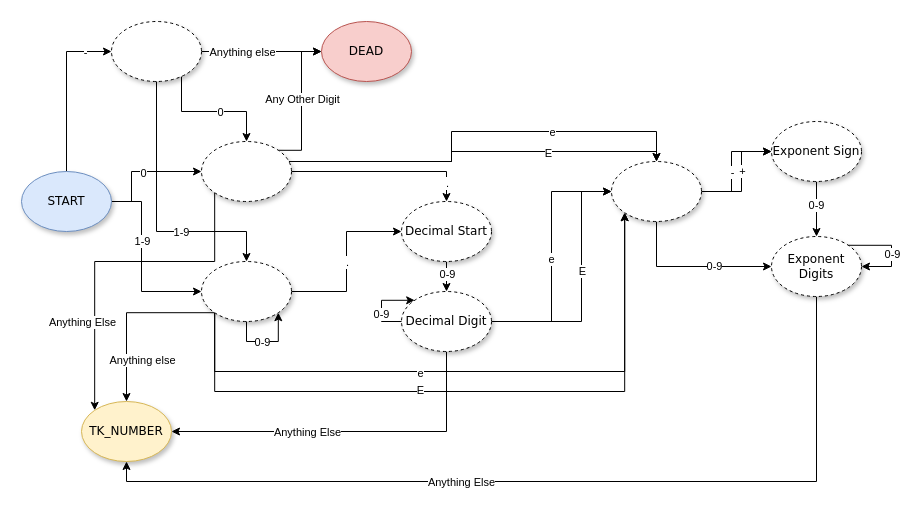
This 917x507 diagram has some shape labels left out. The centre of each missing label's shape, as x and y in pixels:
"Exponent Start" belongs at point 657,192.
"Sign State" belongs at point 157,52.
"Significant Start" belongs at point 247,292.
"Zero Start" belongs at point 247,172.
